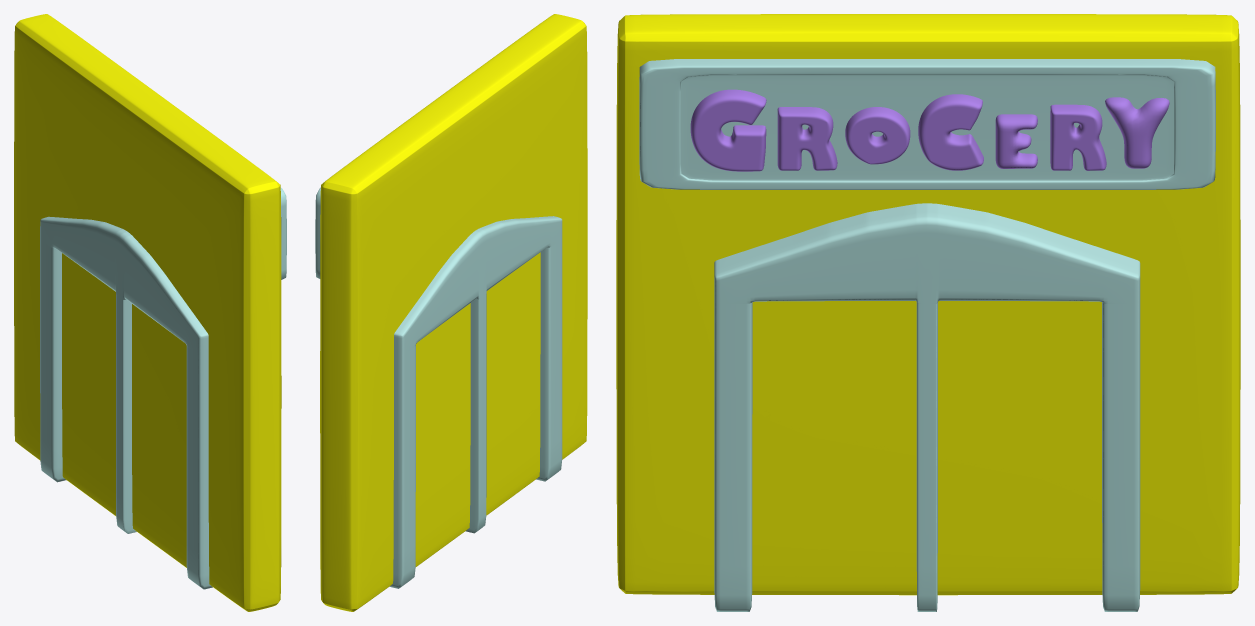
The picture shows the model from 3 angles, left to right: view 1: azimuth 30°, elevation 25°; view 2: azimuth 150°, elevation 25°; view 3: azimuth 270°, elevation 25°; orthographic projection. The views are drawn at different scales.
Visible parts, largest first — view 1: polySurface143767; view 2: polySurface143767; view 3: polySurface143767.
Boxes of the visible parts, x1=… form: polySurface143767: x1=14, y1=14, x2=286, y2=611; polySurface143767: x1=315, y1=14, x2=587, y2=611; polySurface143767: x1=616, y1=14, x2=1240, y2=611.
Size of the model in its own units: 0.182 by 0.9995 by 0.9995.
